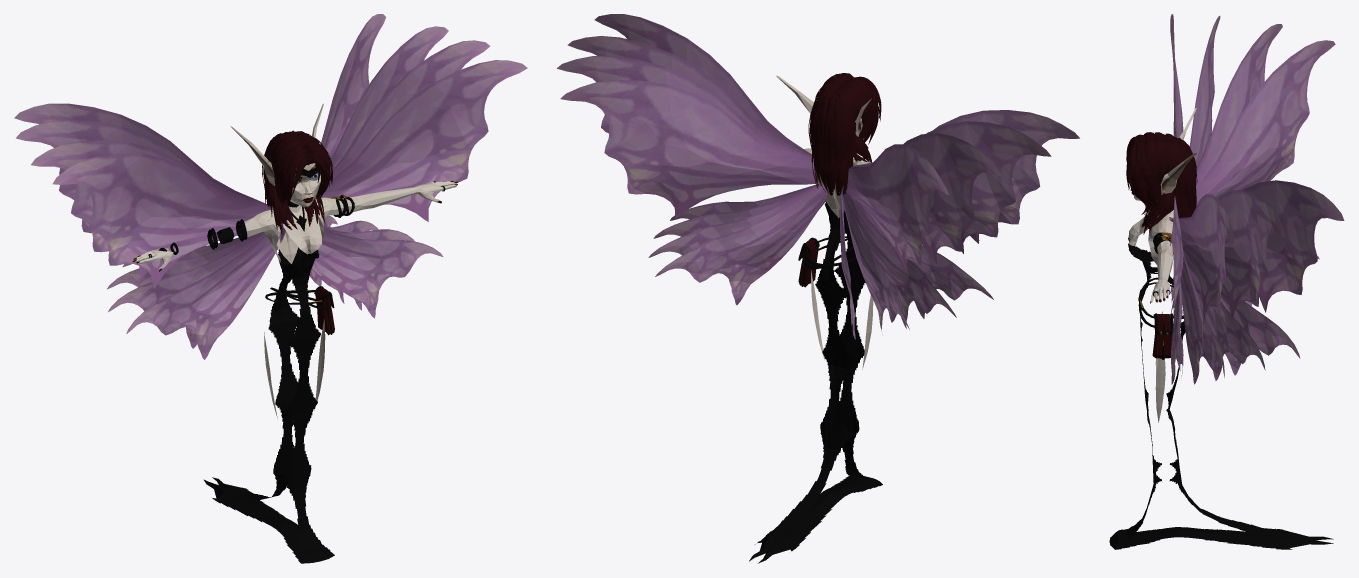
File: kalus.obj
3 renders of one model, left to right at view 1: azimuth 30°, elevation 25°; view 2: azimuth 150°, elevation 25°; view 3: azimuth 270°, elevation 25°, orthographic. The views are drawn at different scales.
Parts seen in each view (by area): view 1: rg_2_3.009_rg_2_3.013, rg_2_3.002, rg_2_3.011_rg_2_3.014, rg_2_3.013_rg_2_3.015, rg_2_3.001, rg_2_3.007, rg_2_3.012, rg_2_3.008, rg_2_3.004; view 2: rg_2_3.013_rg_2_3.015, rg_2_3.009_rg_2_3.013, rg_2_3.011_rg_2_3.014, rg_2_3.002, rg_2_3.007, rg_2_3.001, rg_2_3.008; view 3: rg_2_3.013_rg_2_3.015, rg_2_3.009_rg_2_3.013, rg_2_3.011_rg_2_3.014, rg_2_3.002, rg_2_3.007, rg_2_3.001, rg_2_3.008, rg_2_3.012, rg_2_3.004.
Part boxes in pixels (x1,y1,x2,y2): rg_2_3.009_rg_2_3.013: (31,40,527,359); rg_2_3.002: (158,201,334,563); rg_2_3.011_rg_2_3.014: (16,26,448,303); rg_2_3.013_rg_2_3.015: (14,14,385,286); rg_2_3.001: (134,103,456,418); rg_2_3.007: (262,130,332,226); rg_2_3.012: (148,164,445,334); rg_2_3.008: (265,150,332,233); rg_2_3.004: (132,181,458,335); rg_2_3.013_rg_2_3.015: (560,80,949,339); rg_2_3.009_rg_2_3.013: (567,14,1079,328); rg_2_3.011_rg_2_3.014: (557,56,1002,331); rg_2_3.002: (749,201,882,563); rg_2_3.007: (808,73,881,190); rg_2_3.001: (776,75,873,369); rg_2_3.008: (811,93,881,195); rg_2_3.013_rg_2_3.015: (1169,40,1344,375); rg_2_3.009_rg_2_3.013: (1169,14,1233,384); rg_2_3.011_rg_2_3.014: (1171,24,1285,380); rg_2_3.002: (1109,237,1333,549); rg_2_3.007: (1126,132,1196,228); rg_2_3.001: (1128,108,1196,422); rg_2_3.008: (1127,156,1197,234); rg_2_3.012: (1138,220,1184,359); rg_2_3.004: (1131,189,1172,358).
Size of the model in its own units: 1.77 by 1.52 by 0.7612.
Materials: 13 (9 with a texture image).
